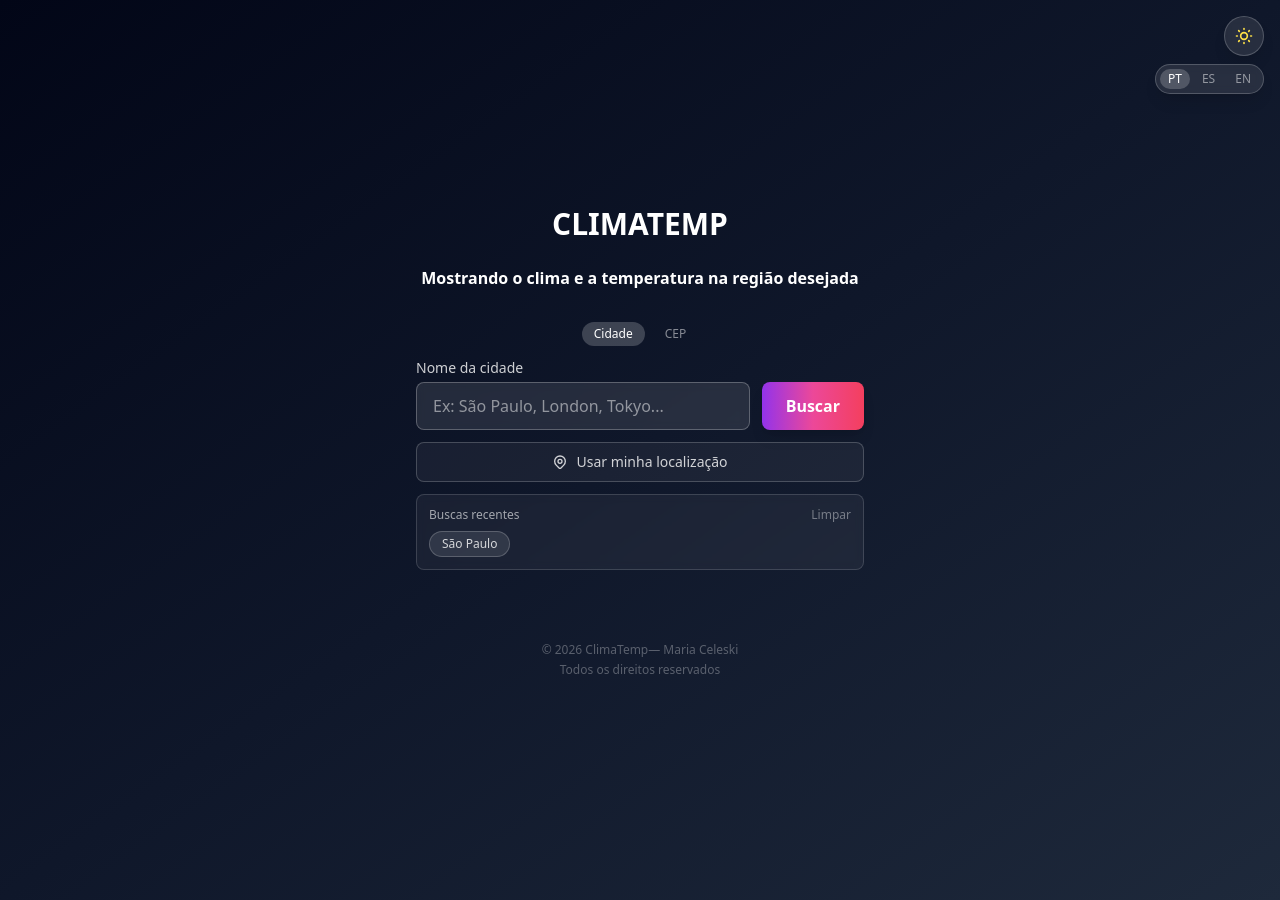
Test: App Integration Tests › should show unavailable message on 5xx error
This screenshot has width=1280, height=900.
Type "Londres" into the field labelled "Nome da cidade".
click(583, 406); type("Londres")  # box [416,382,750,430]
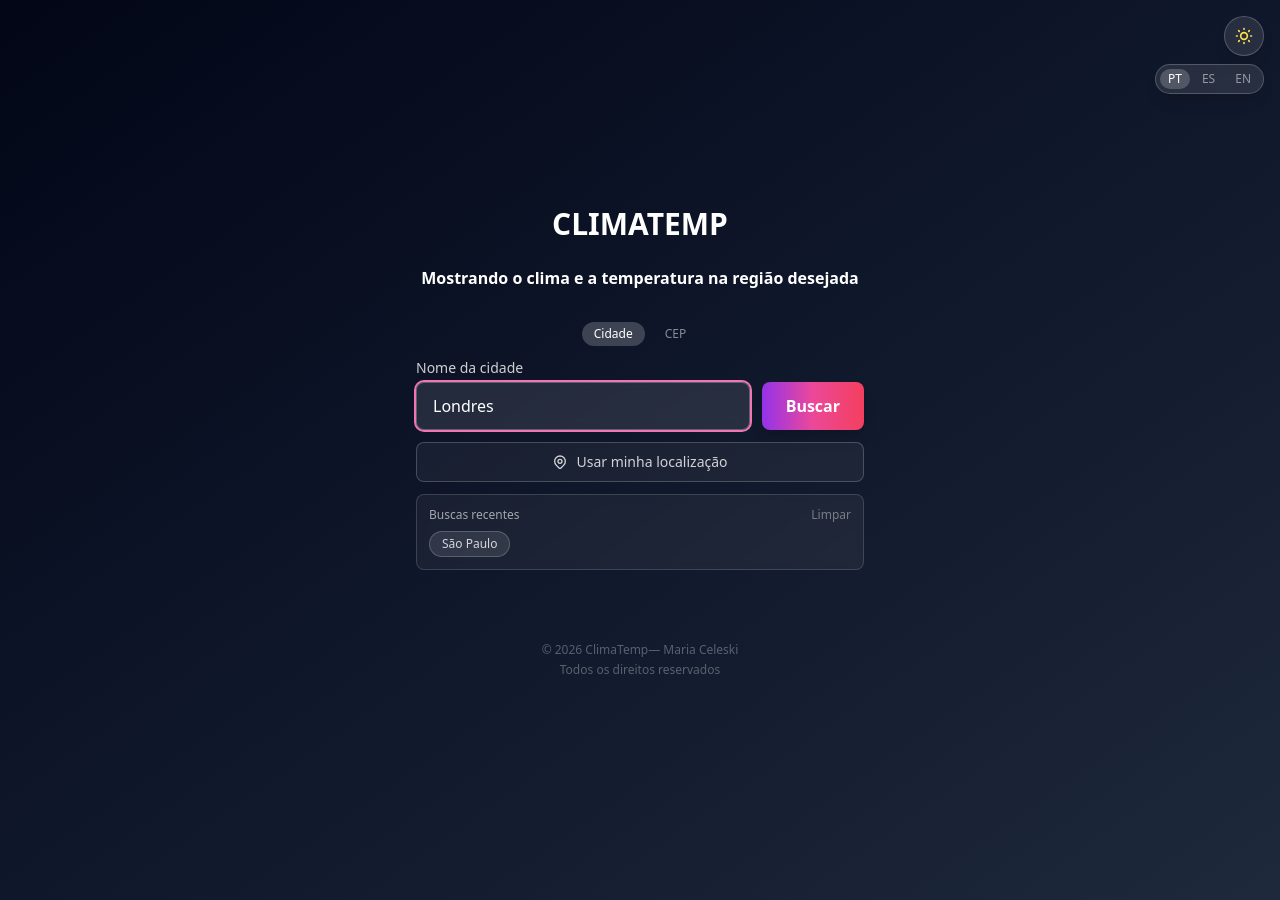
Click the button with aria-label "Buscar clima por cidade".
click(813, 406)  # box [762,382,864,430]
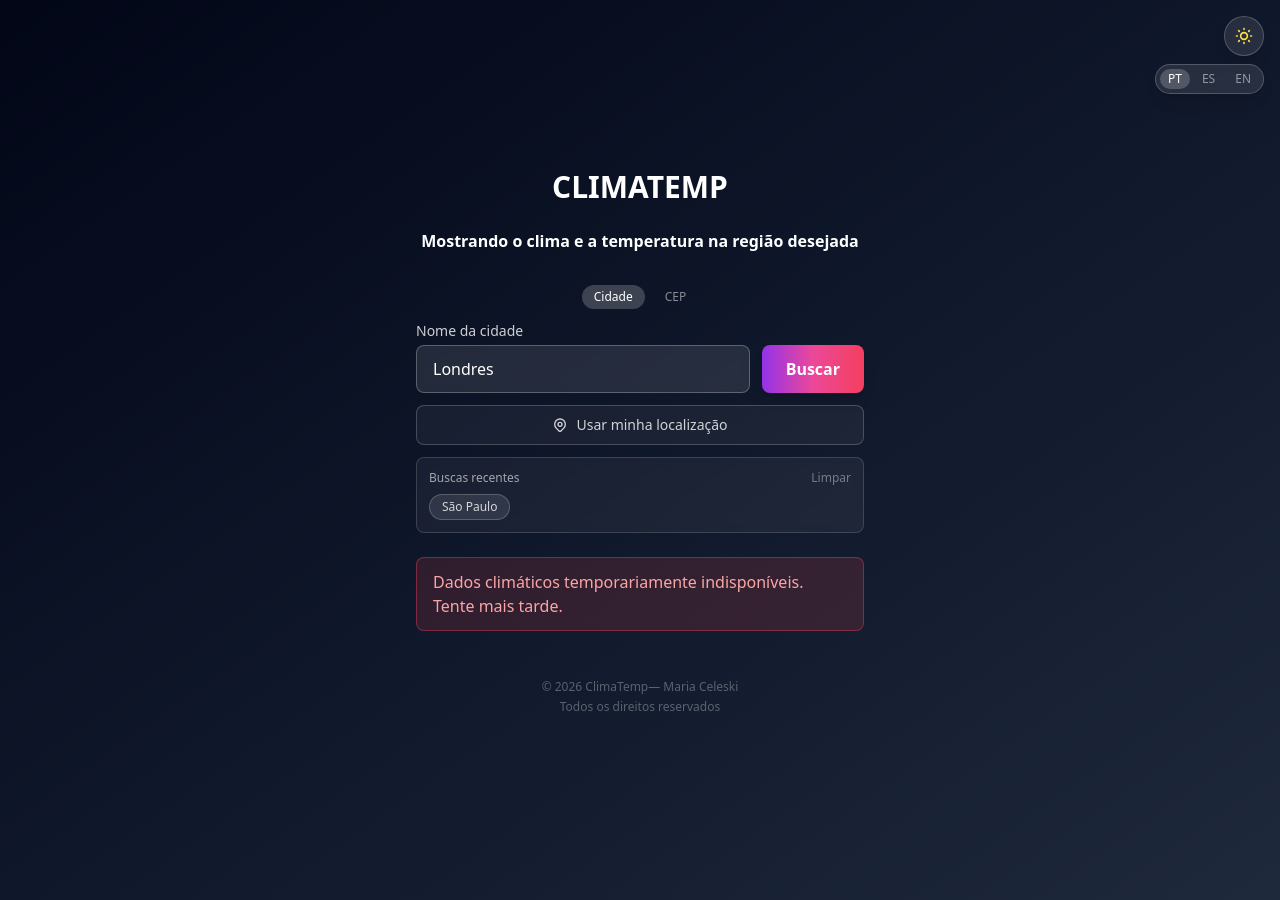
expect the message "Dados climáticos temporariamente indisponíveis. Tente mais tarde." is shown: met, box [416,557,864,631]
expect the text "Dados climáticos temporariamente indisponíveis. Tente mais tarde." is shown: met, box [433,570,847,618]
